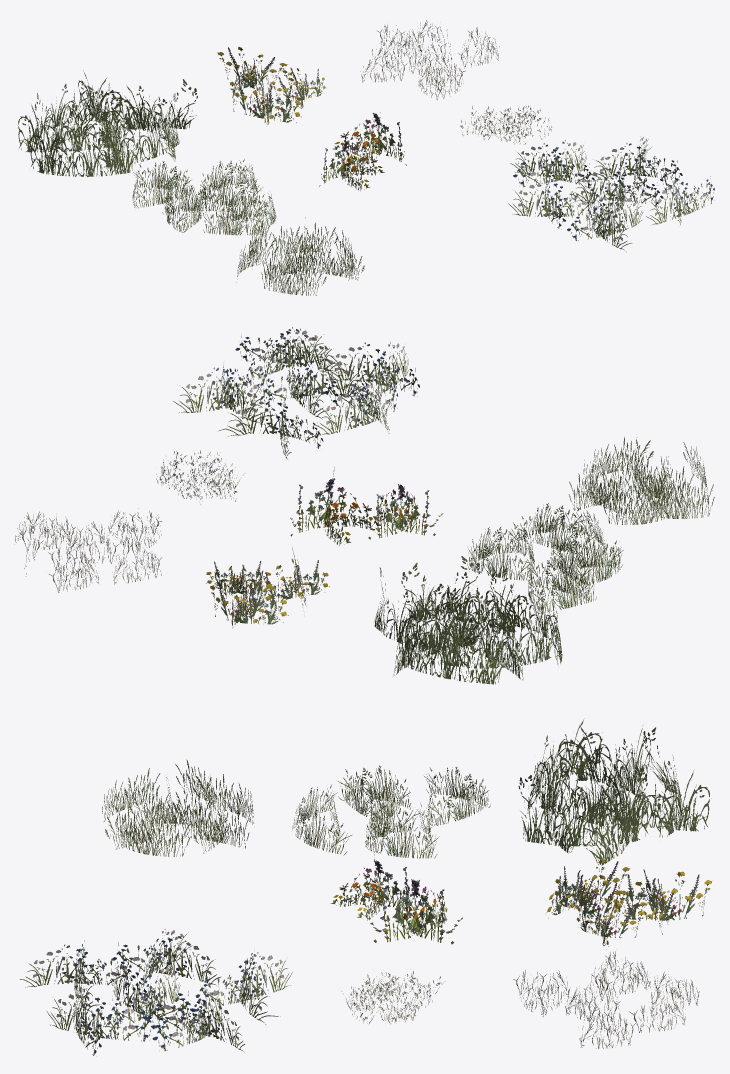
The model's file is grass.glb.
The picture shows the model from 3 angles, top to bottom: view 1: azimuth 30°, elevation 25°; view 2: azimuth 150°, elevation 25°; view 3: azimuth 270°, elevation 25°; orthographic projection. The views are drawn at different scales.
Visible parts, largest first — view 1: Model__GrassBase; view 2: Model__GrassBase; view 3: Model__GrassBase.
Boxes of the visible parts, <box> form: Model__GrassBase: <box>18,20,714,295</box>; Model__GrassBase: <box>14,327,714,684</box>; Model__GrassBase: <box>19,718,711,1055</box>.
Bounding box in the file's own units: 3.06 × 0.3395 × 3.12.
1 material, 1 textured.
